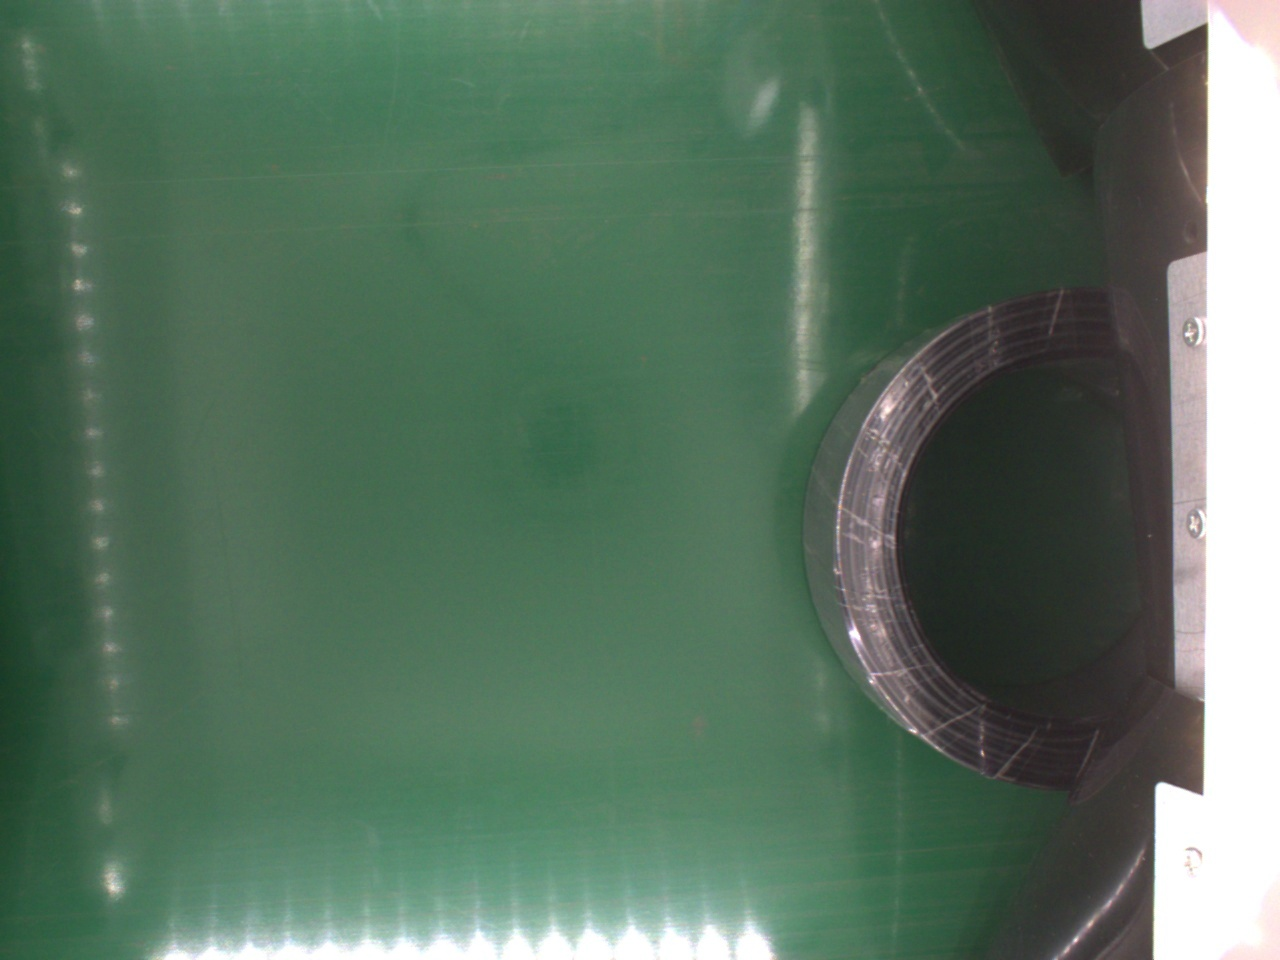black: (803, 288, 1147, 789)
